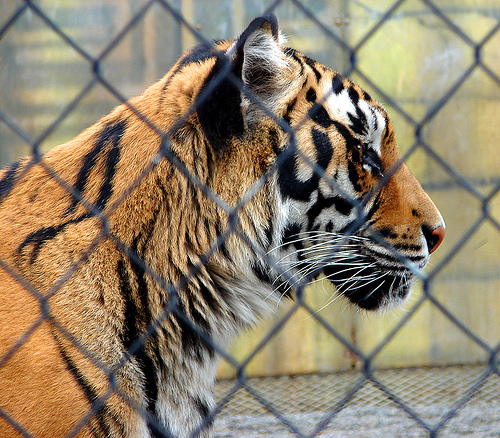Tigre: (21, 38, 439, 407)
